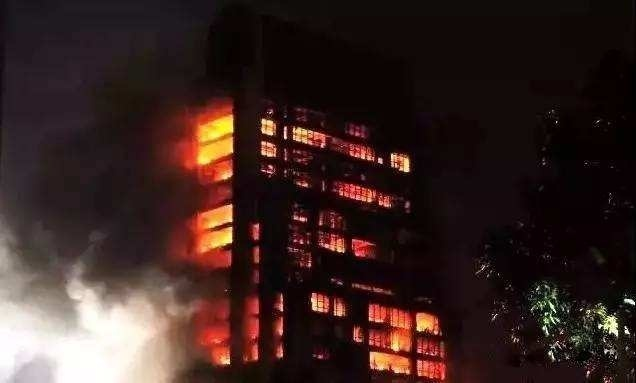fire: (251, 110, 409, 199), (184, 101, 235, 256), (360, 305, 445, 371), (285, 212, 368, 266), (307, 288, 346, 316)
